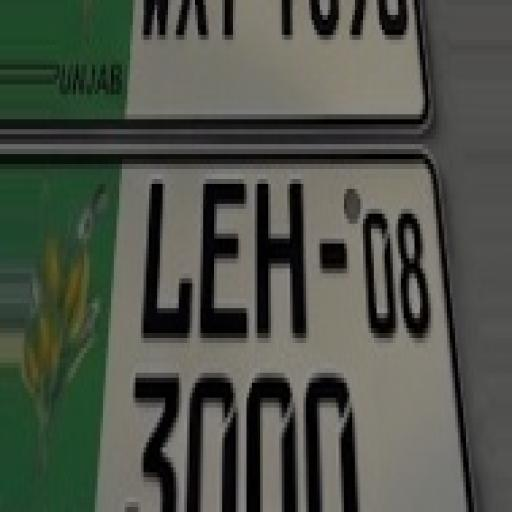0: (298, 363, 363, 512), (241, 358, 293, 512), (184, 368, 233, 512)
3: (119, 363, 179, 512)
E: (192, 174, 252, 346)
H: (258, 171, 308, 351)
L: (141, 172, 195, 350)
